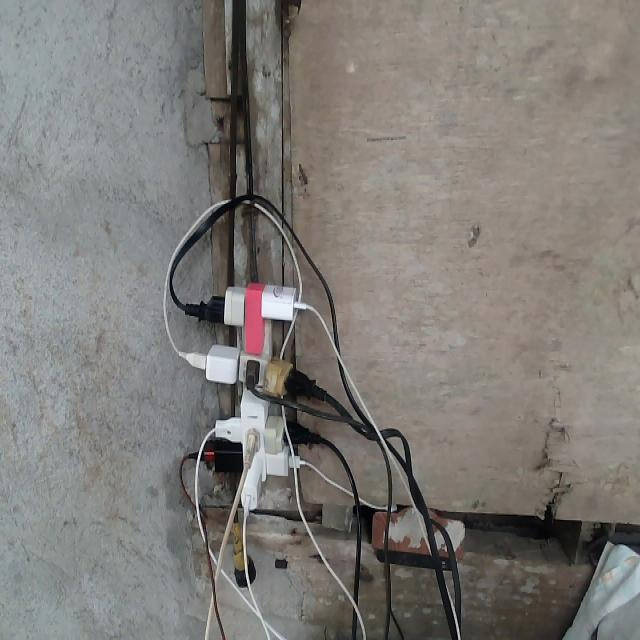-: (180, 280, 325, 513)
